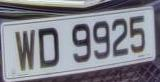2: (110, 14, 130, 60)
5: (127, 12, 149, 56)
9: (69, 17, 94, 67), (91, 16, 113, 64)
D: (36, 22, 63, 73)
W: (13, 25, 37, 76)
